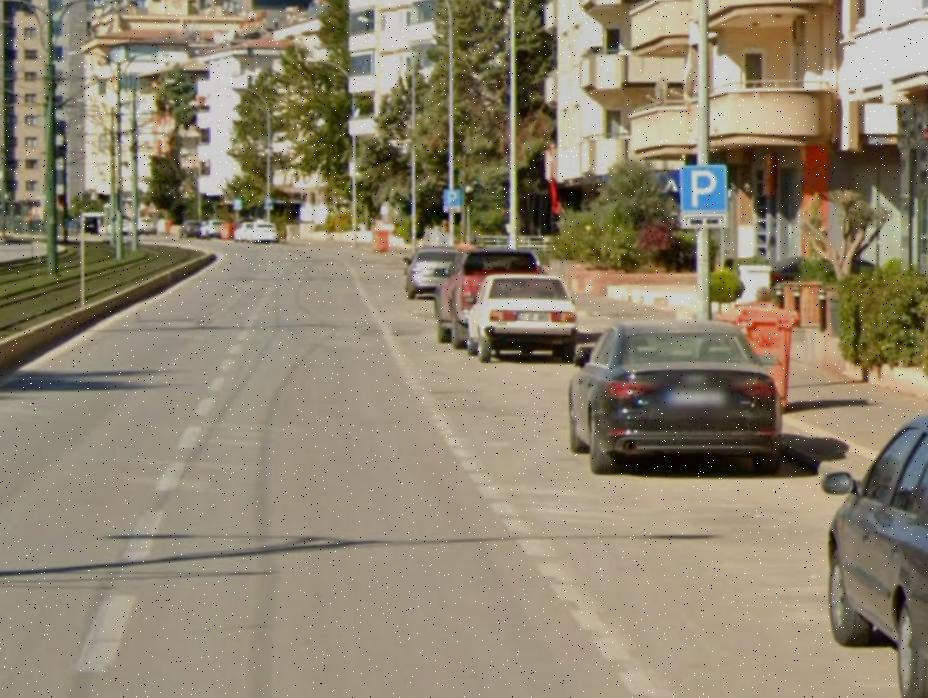park: (680, 166, 726, 212), (443, 189, 461, 207)
